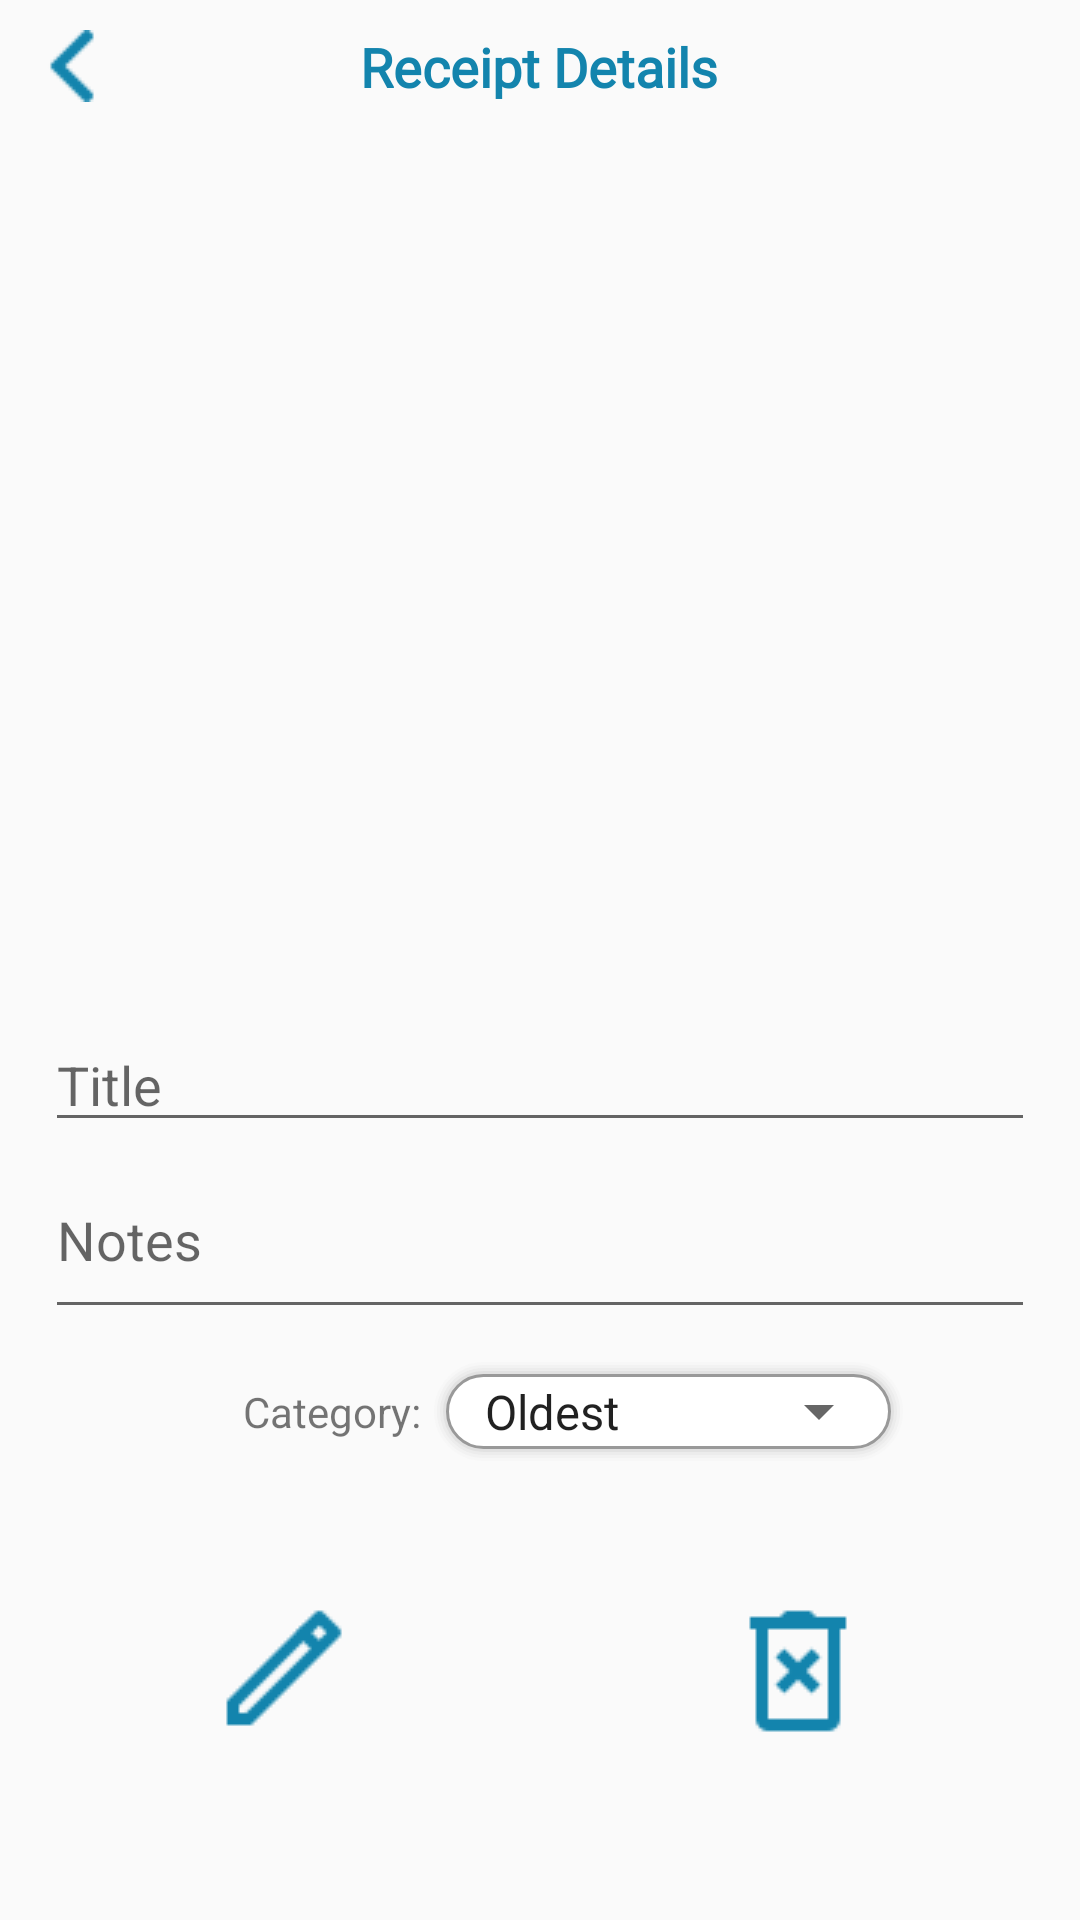

Icons on this 1080 x 1920 Android screen, each with its box as (x1, y1, x2, y2):
back: (50, 30, 94, 102)
delete account: (749, 1610, 847, 1732)
edit account: (226, 1610, 342, 1726)
